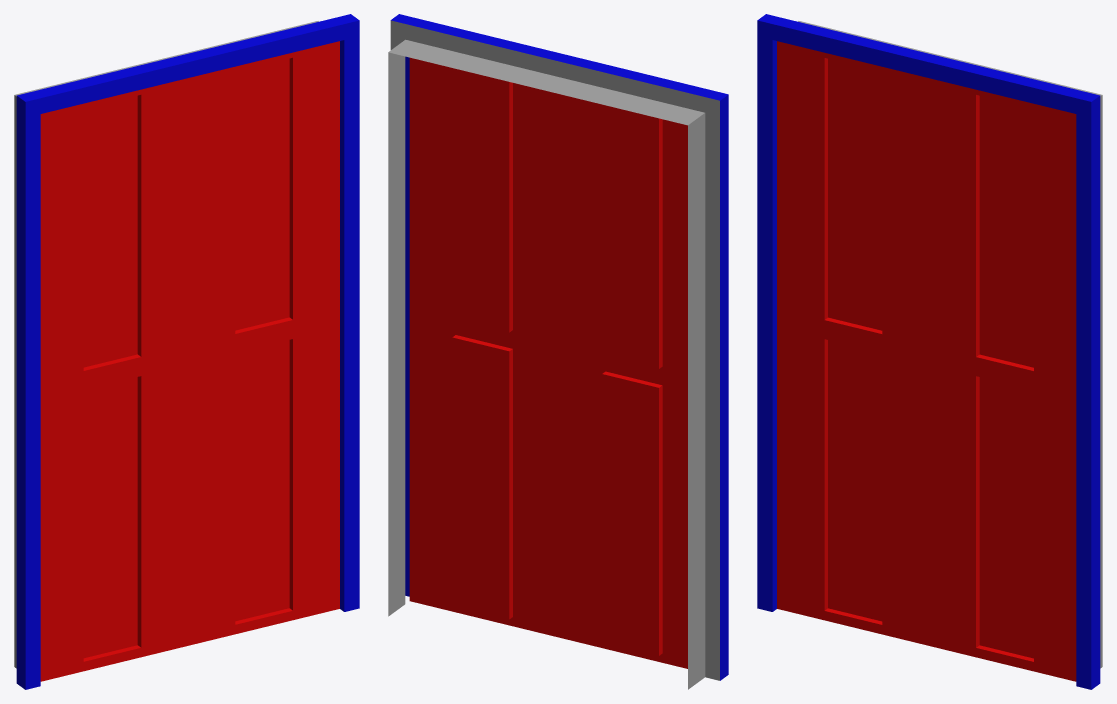
File: FrontDoor.fbx
The picture shows the model from 3 angles, left to right: view 1: azimuth 30°, elevation 25°; view 2: azimuth 150°, elevation 25°; view 3: azimuth 330°, elevation 25°; orthographic projection.
Visible parts, largest first — view 1: DoorClosed; view 2: DoorClosed; view 3: DoorClosed.
Part boxes in pixels (left/top/right/bottom): DoorClosed: left=14, top=14, right=359, bottom=689; DoorClosed: left=388, top=14, right=728, bottom=689; DoorClosed: left=757, top=14, right=1102, bottom=689.
Size of the model in its own units: 110 by 185 by 15.
